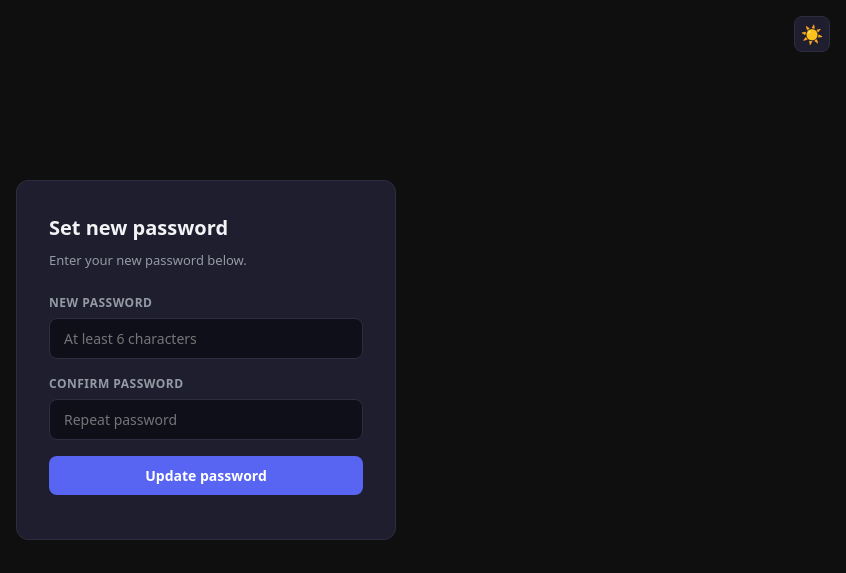
Test: shows error when password is too short
In the password field with test id "rp-password": coordinates (206, 339) left=49, top=318, right=363, bottom=359, type "abc"
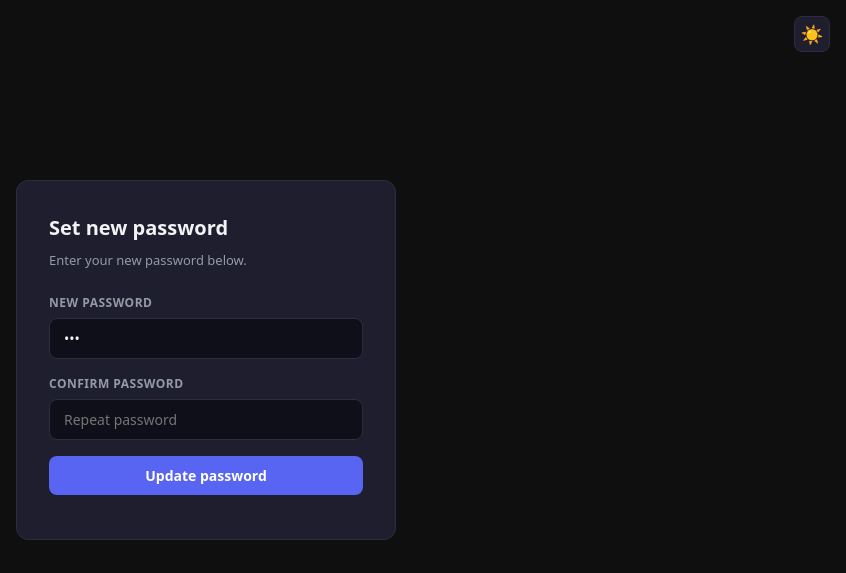
In the password field with test id "rp-confirm": coordinates (206, 420) left=49, top=399, right=363, bottom=440, type "abc"
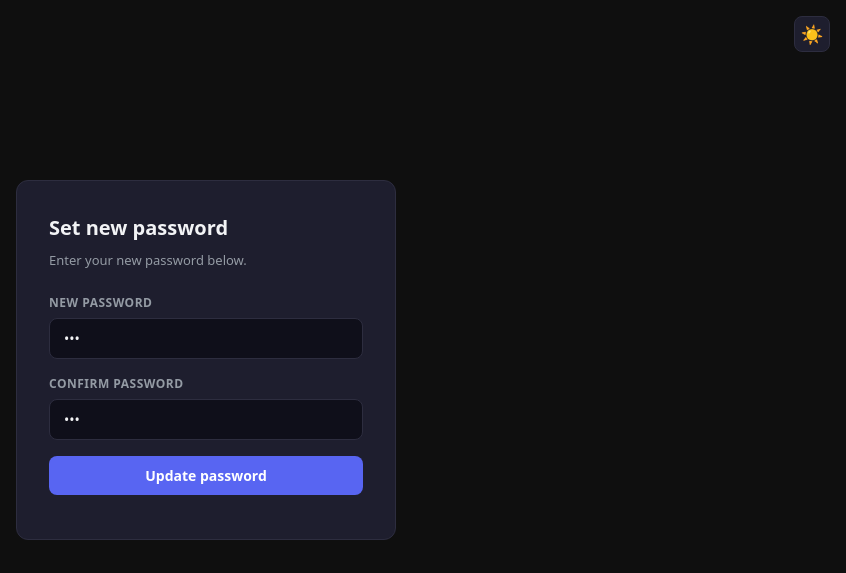
Click the button with test id "rp-submit": coordinates (206, 476) left=49, top=456, right=363, bottom=495
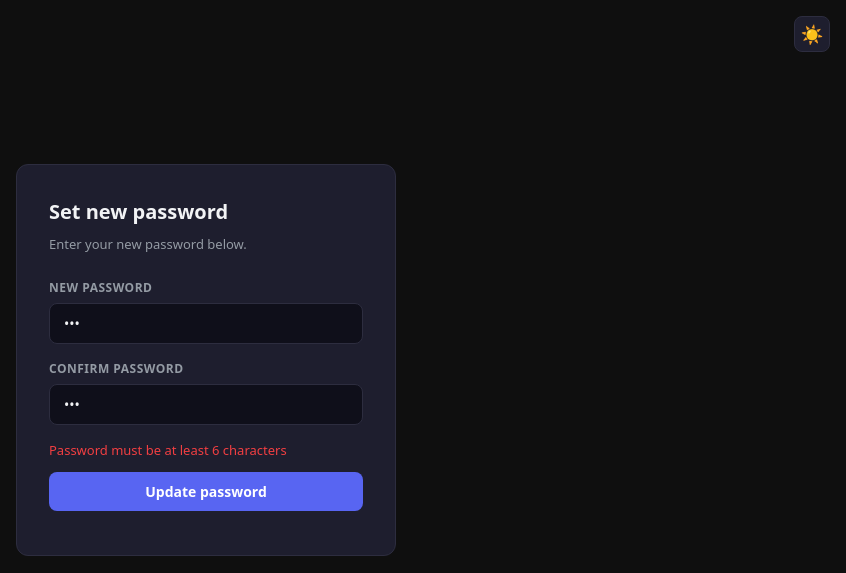
Check: the text with test id "rp-error" shows "6 characters", box left=49, top=440, right=287, bottom=458
